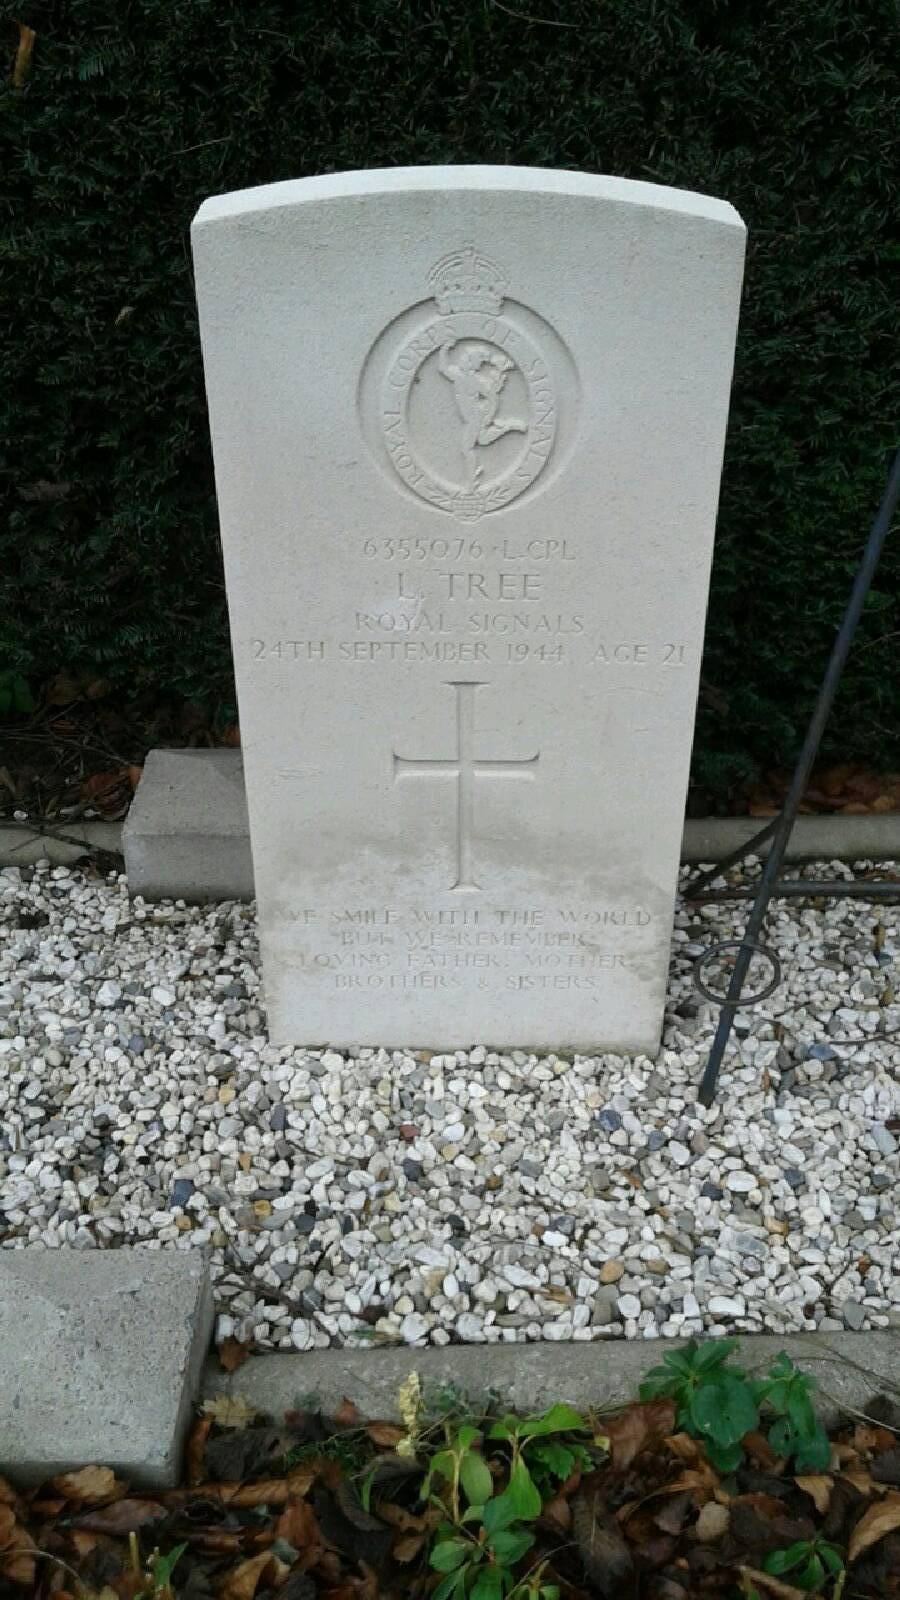military: (176, 167, 765, 1065)
